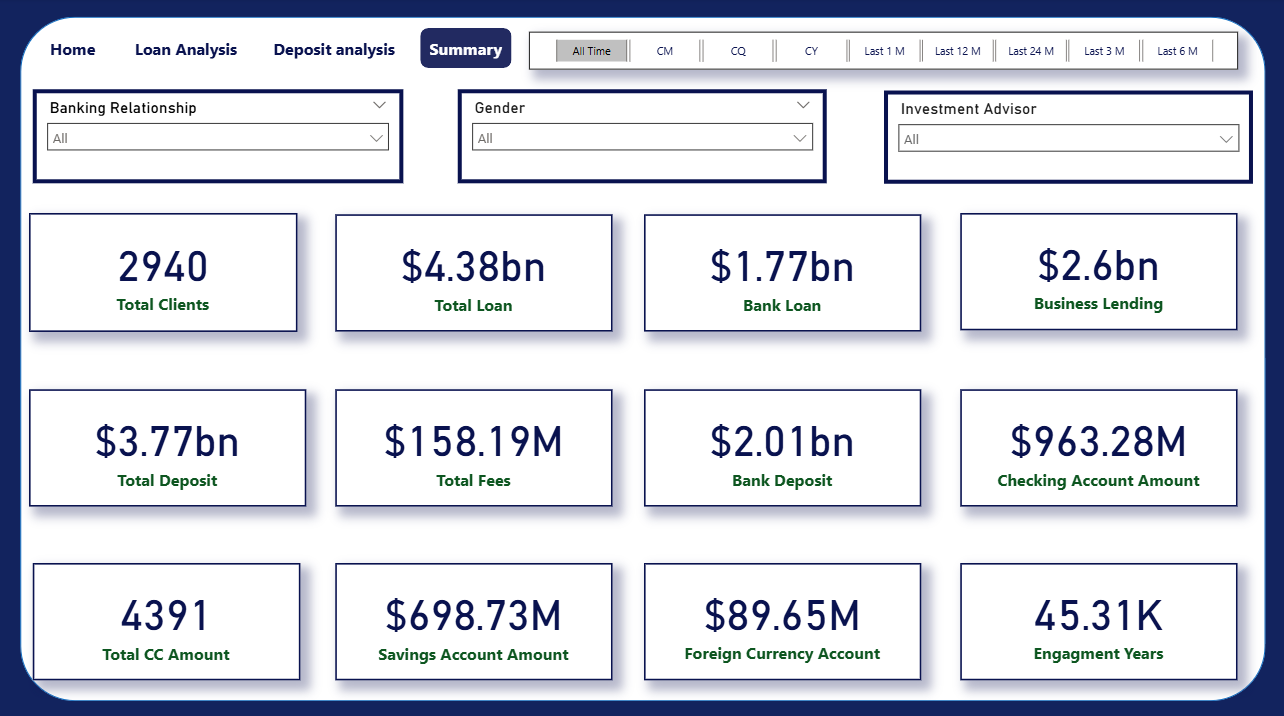

Layout of this report page (visuals, bound fields, positions):
{"tool":"powerbi","page":{"name":"Summary Analysis","canvas":[1280,720],"ordinal":3},"visuals":[{"type":"shape","box":[21.7,18.8,1239.2,681.1],"z":0},{"type":"actionButton","box":[125.6,29.9,120.7,39.8],"z":1000},{"type":"actionButton","box":[419.2,29.9,90.8,39.8],"z":2000},{"type":"actionButton","box":[263.7,29.9,139.3,39.8],"z":3000},{"type":"actionButton","box":[41.1,29.9,64.7,39.8],"z":4000},{"type":"slicer","fields":{"Values":["Period.Name"]},"box":[527.8,33.3,705.7,37.6],"z":5000},{"type":"slicer","fields":{"Values":["Banking Relationship.Banking Relationship"]},"box":[33.3,91.1,368.7,94],"z":6000},{"type":"slicer","fields":{"Values":["Gender.Gender"]},"box":[456.9,91.1,367.3,94],"z":7000},{"type":"slicer","fields":{"Values":["Investment Advisor.Investment Advisor"]},"box":[880.6,92.5,367.3,92.5],"z":8000},{"type":"card","fields":{"Values":["Dax Measures.Total Clients"]},"box":[30.4,214,267.5,118.6],"z":9000},{"type":"card","fields":{"Values":["Dax Measures.Total Loan"]},"box":[334,215.5,276.2,117.1],"z":10000},{"type":"card","fields":{"Values":["Dax Measures.Total Deposit"]},"box":[30.4,389,276.2,117.1],"z":11000},{"type":"card","fields":{"Values":["Dax Measures.Total Fees"]},"box":[334,389,276.2,117.1],"z":12000},{"type":"card","fields":{"Values":["Dax Measures.Total CC Amount"]},"box":[33.3,562.5,266.1,117.1],"z":13000},{"type":"card","fields":{"Values":["Dax Measures.Savings Account"]},"box":[334,562.5,276.2,117.1],"z":14000},{"type":"card","fields":{"Values":["Dax Measures.Bank Loan"]},"box":[641.9,215.2,276.2,116.9],"z":15000},{"type":"card","fields":{"Values":["Dax Measures.Bank Deposit"]},"box":[641.9,389.4,276.2,116.9],"z":16000},{"type":"card","fields":{"Values":["Dax Measures.Foreign Currency Account"]},"box":[641.9,562.3,276.2,116.9],"z":17000},{"type":"card","fields":{"Values":["Dax Measures.Business Lending"]},"box":[956.6,214,276.2,116.9],"z":18000},{"type":"card","fields":{"Values":["Dax Measures.Checking Accounts"]},"box":[956.6,389.4,276.2,116.9],"z":19000},{"type":"card","fields":{"Values":["Dax Measures.Engagment Years"]},"box":[956.6,562.3,276.2,116.9],"z":20000}]}

Visuals, with their boxes in screenshot pixels (x1, y1, x2, y2), scaled from the page's 1280x720 canvas onto the 1284x716 screenshot:
shape: box(22, 19, 1265, 696)
actionButton: box(126, 30, 247, 69)
actionButton: box(421, 30, 512, 69)
actionButton: box(265, 30, 404, 69)
actionButton: box(41, 30, 106, 69)
slicer - Period.Name: box(529, 33, 1237, 71)
slicer - Banking Relationship.Banking Relationship: box(33, 91, 403, 184)
slicer - Gender.Gender: box(458, 91, 827, 184)
slicer - Investment Advisor.Investment Advisor: box(883, 92, 1252, 184)
card - Dax Measures.Total Clients: box(30, 213, 299, 331)
card - Dax Measures.Total Loan: box(335, 214, 612, 331)
card - Dax Measures.Total Deposit: box(30, 387, 308, 503)
card - Dax Measures.Total Fees: box(335, 387, 612, 503)
card - Dax Measures.Total CC Amount: box(33, 559, 300, 676)
card - Dax Measures.Savings Account: box(335, 559, 612, 676)
card - Dax Measures.Bank Loan: box(644, 214, 921, 330)
card - Dax Measures.Bank Deposit: box(644, 387, 921, 503)
card - Dax Measures.Foreign Currency Account: box(644, 559, 921, 675)
card - Dax Measures.Business Lending: box(960, 213, 1237, 329)
card - Dax Measures.Checking Accounts: box(960, 387, 1237, 503)
card - Dax Measures.Engagment Years: box(960, 559, 1237, 675)
